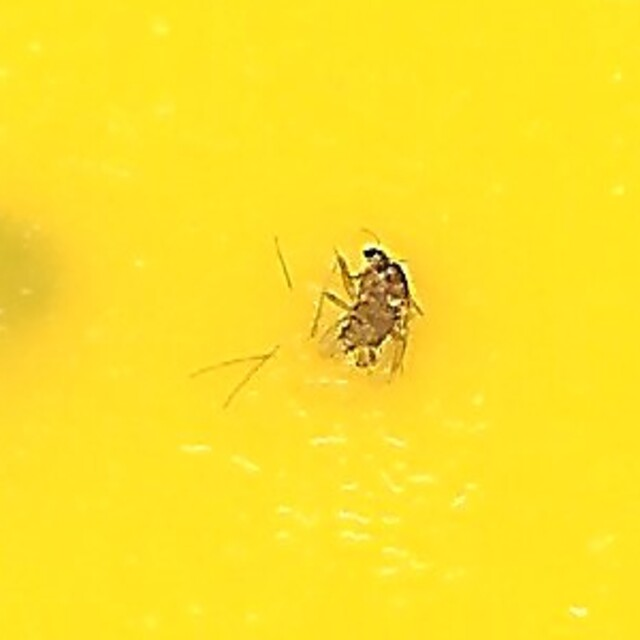Nematocera: (213, 232, 427, 408)
